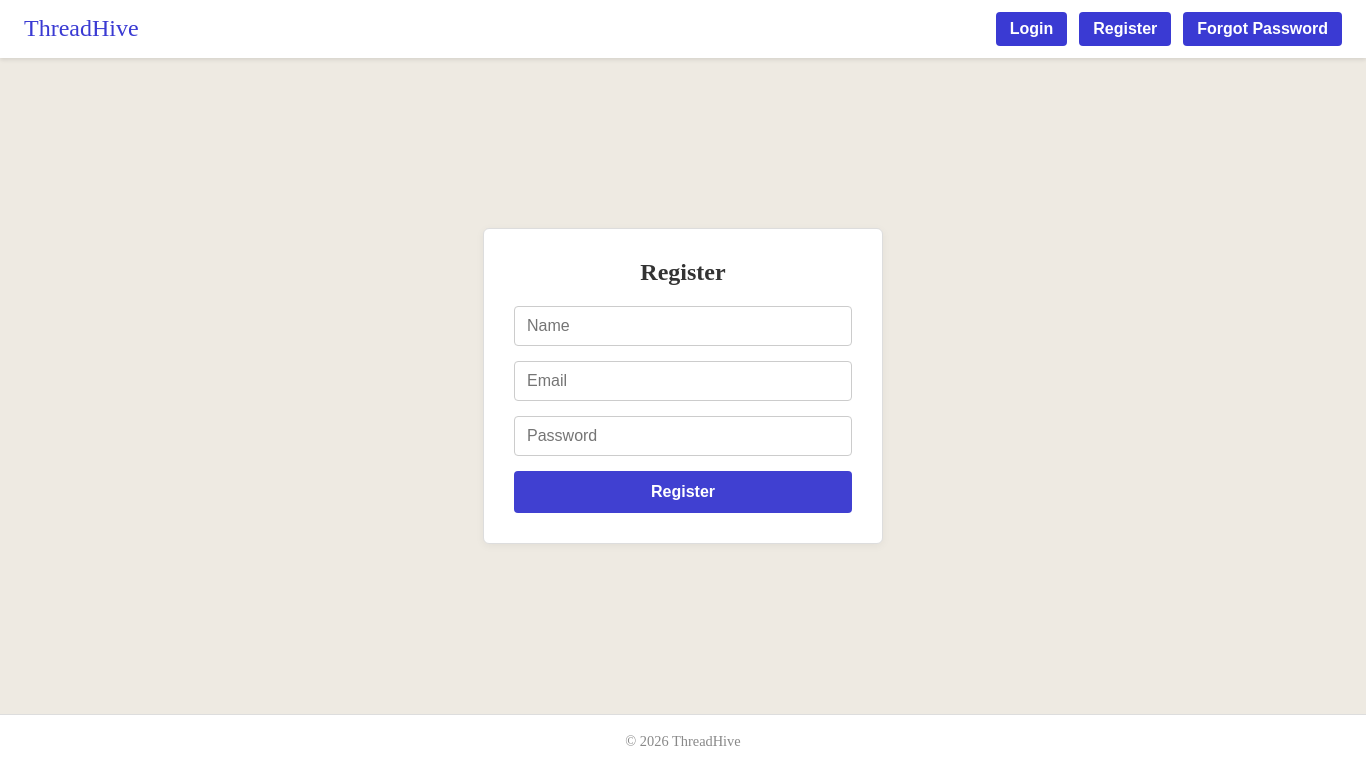
Test: Auth Components › opens the reset-password page from the header
Click the button "Forgot Password". click: click(1263, 29)
box: [1183,12,1342,46]
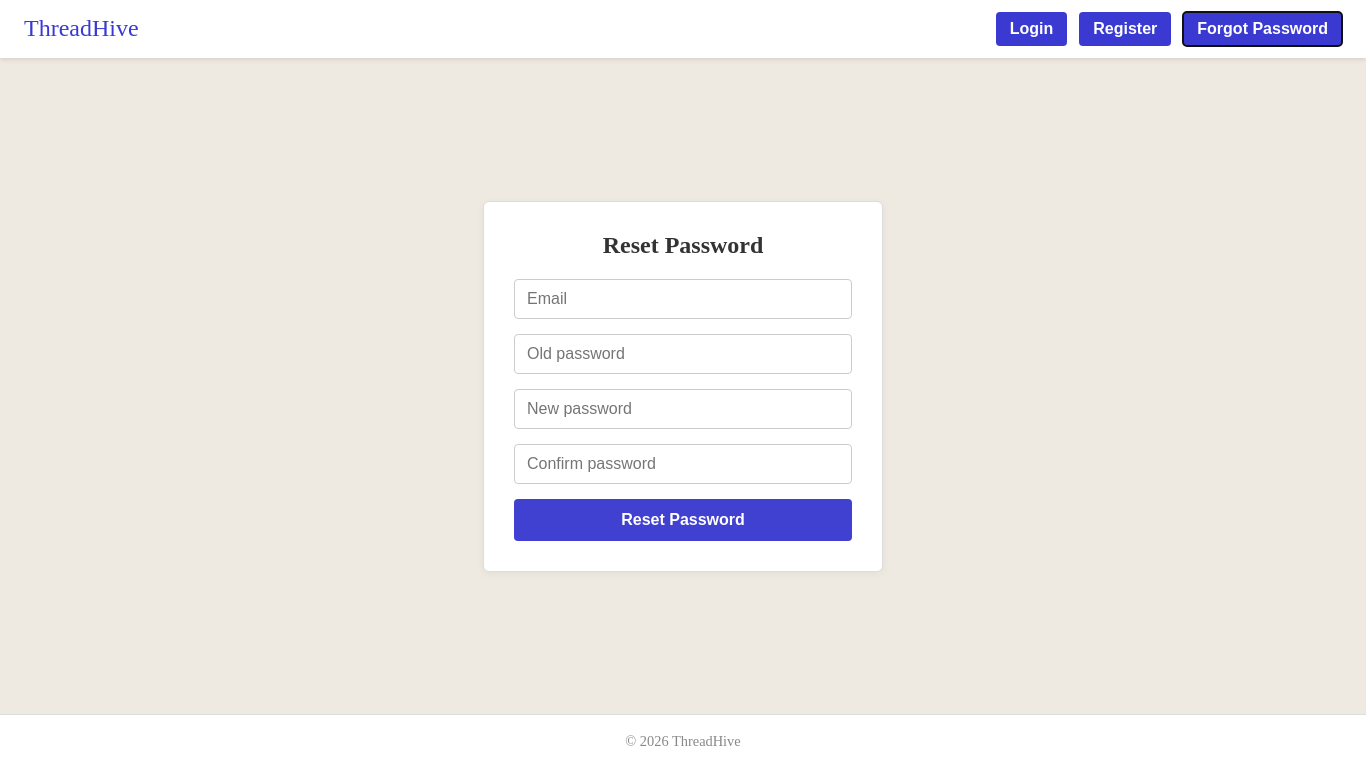
Expected: the heading "Reset Password" is shown, [603,232,763,258]
Expected: the password field labelled "Old password" is shown, [514,334,852,374]
